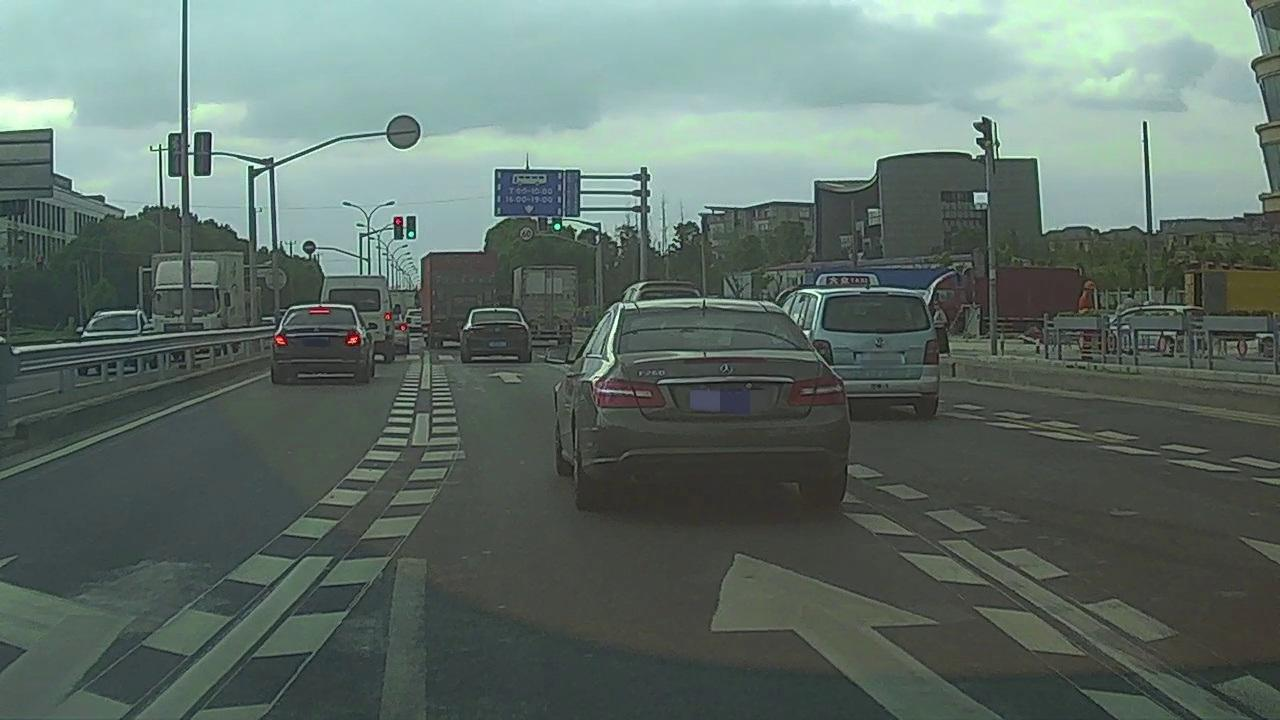traffic_light: (392, 217, 404, 241), (405, 216, 415, 239), (554, 218, 562, 232)
